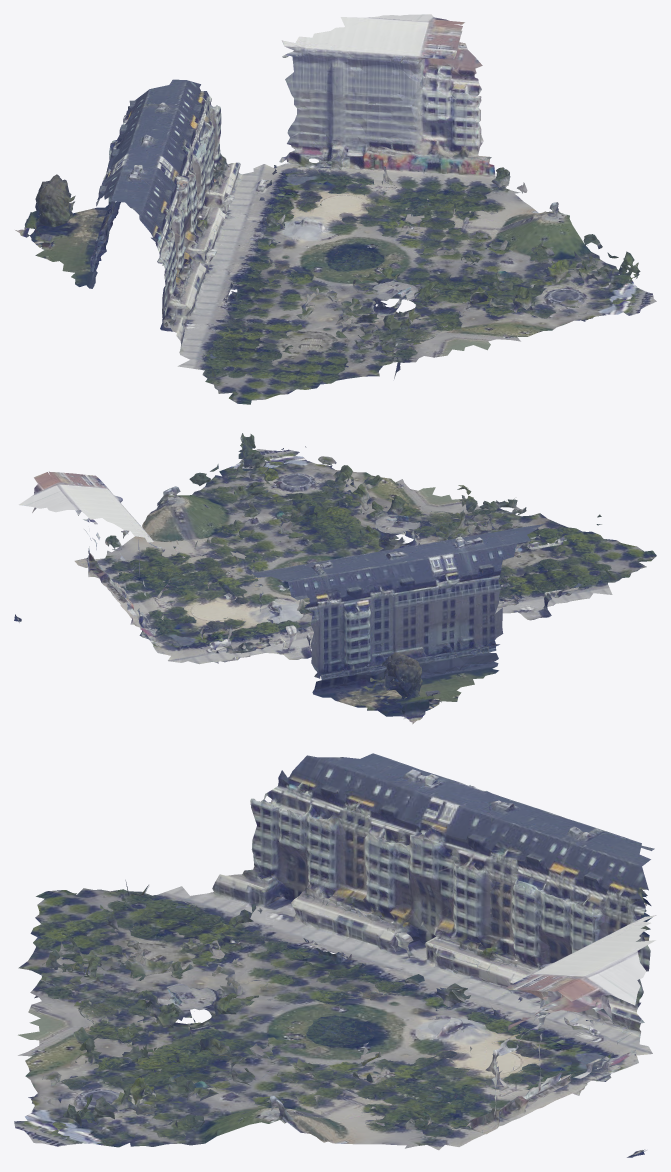
3 renders of one model, top to bottom at view 1: azimuth 30°, elevation 25°; view 2: azimuth 150°, elevation 25°; view 3: azimuth 270°, elevation 25°, orthographic. The views are drawn at different scales.
Bounding box in the file's own units: 109 × 33.27 × 108.
Materials: 1 (1 with a texture image).
